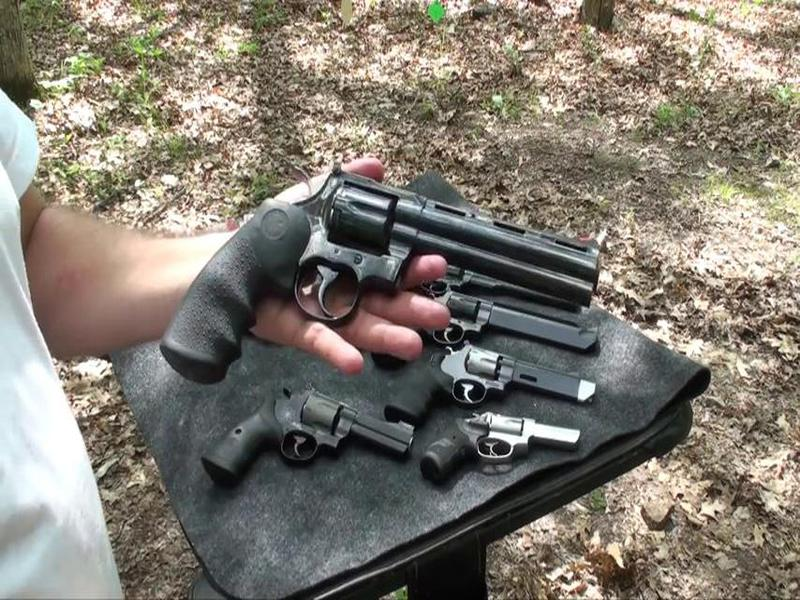Revolver: (222, 149, 610, 339)
